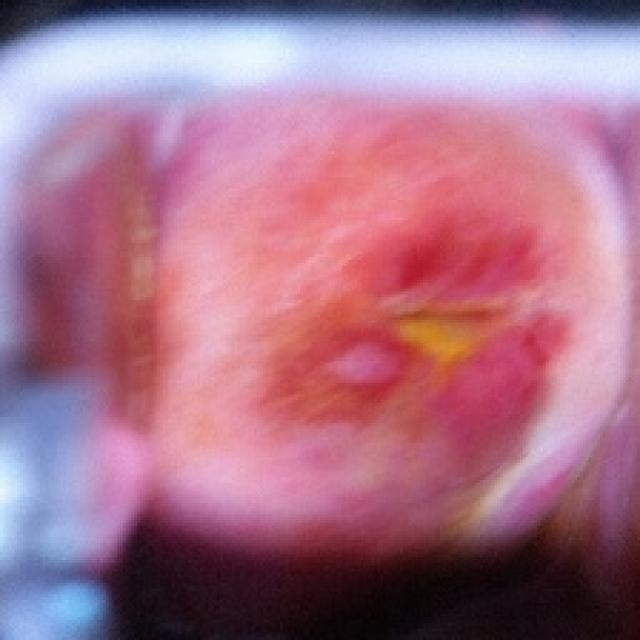type-2: (166, 102, 621, 600)
